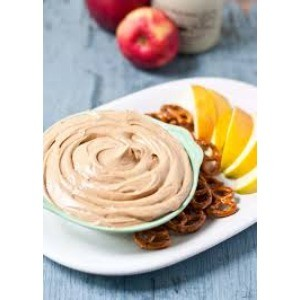peanut butter_brain food: (46, 100, 177, 232)
